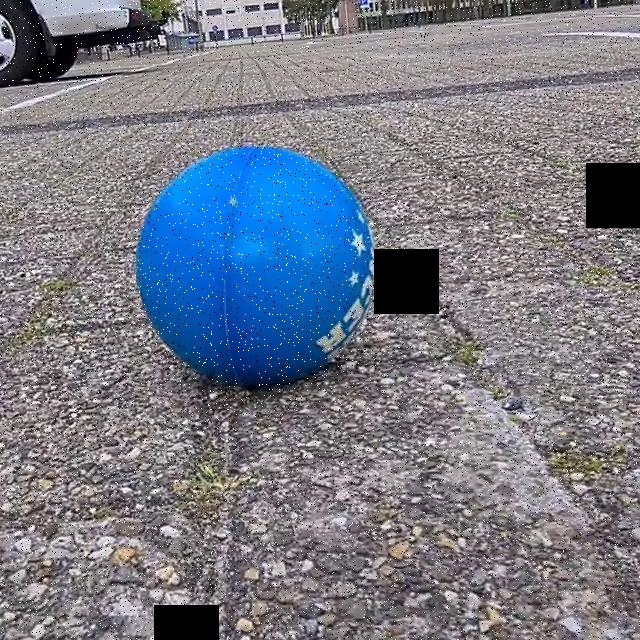ball: (129, 139, 337, 390)
